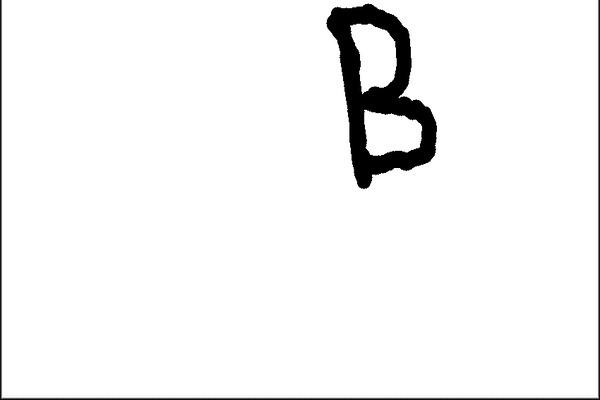B: (317, 1, 443, 194)
